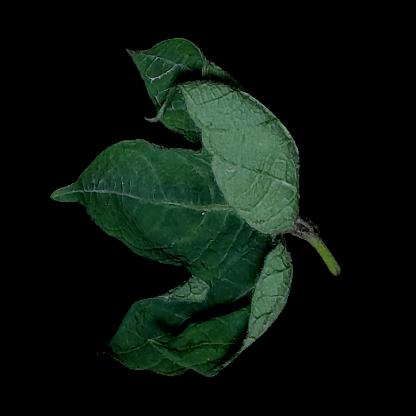curl_stage2: (197, 129, 279, 249), (111, 153, 186, 235), (191, 249, 277, 320), (162, 75, 232, 129), (136, 295, 180, 367)
